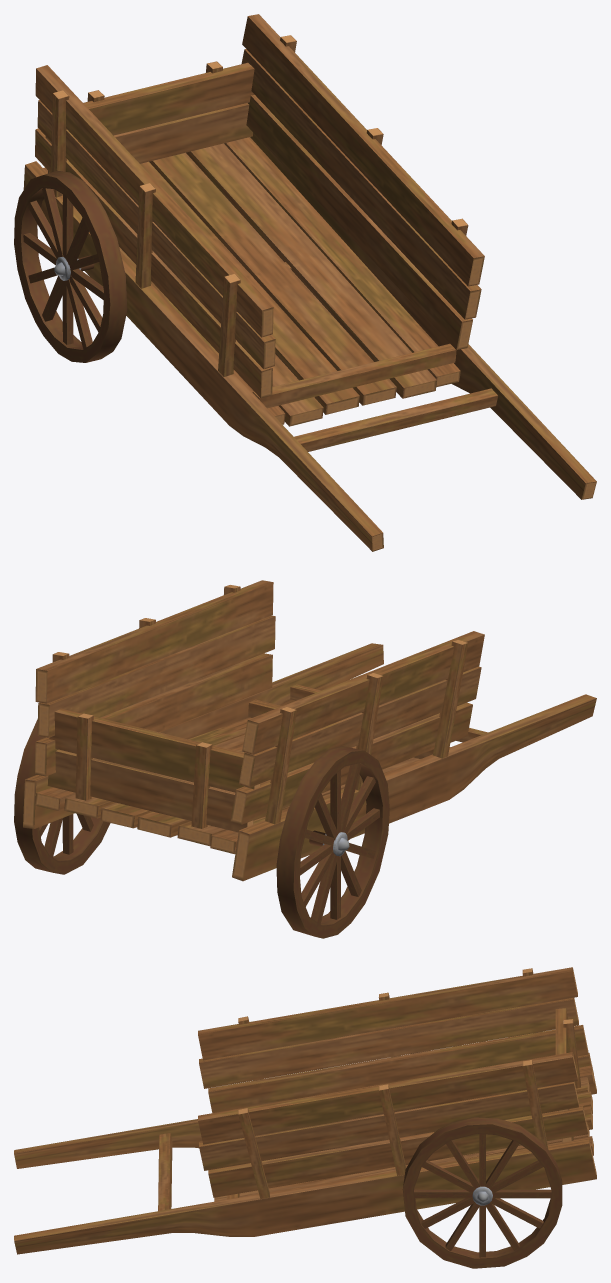
File: Prop_Wagon.obj
The picture shows the model from 3 angles, top to bottom: view 1: azimuth 30°, elevation 25°; view 2: azimuth 150°, elevation 25°; view 3: azimuth 270°, elevation 25°; orthographic projection. The views are drawn at different scales.
Parts seen in each view (by area): view 1: Prop_Wagon; view 2: Prop_Wagon; view 3: Prop_Wagon.
Boxes of the visible parts, x1,y1,x2,y2 form: Prop_Wagon: (14,14,596,551); Prop_Wagon: (14,580,596,938); Prop_Wagon: (14,967,596,1268).
Bounding box in the file's own units: 1.95 × 1.53 × 4.02.
Materials: 1 (1 with a texture image).
